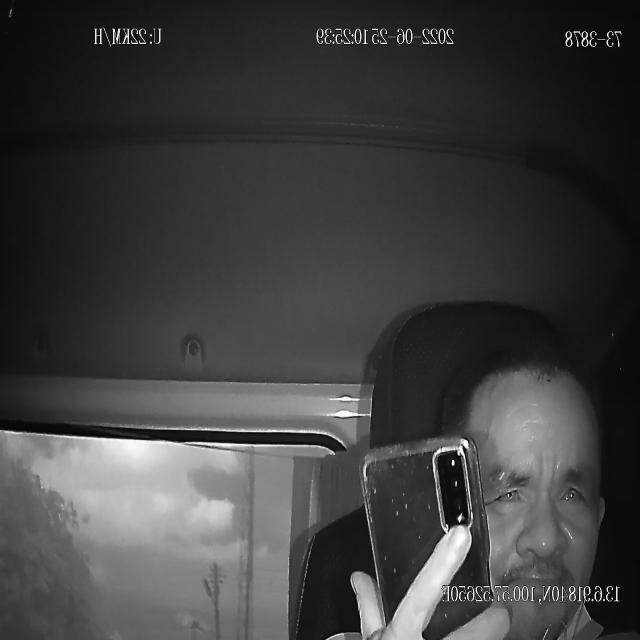phone: (362, 431, 494, 640)
